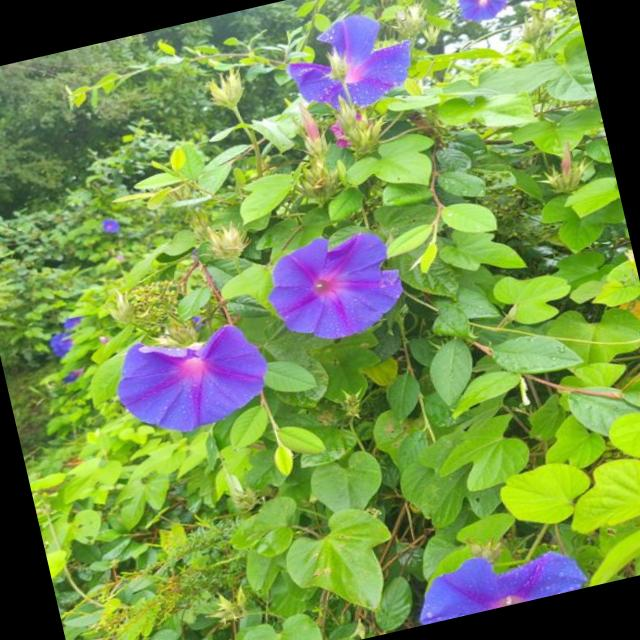ipomoea: (101, 310, 281, 448), (252, 218, 414, 354), (273, 0, 427, 128), (404, 531, 590, 624), (447, 0, 522, 30)
